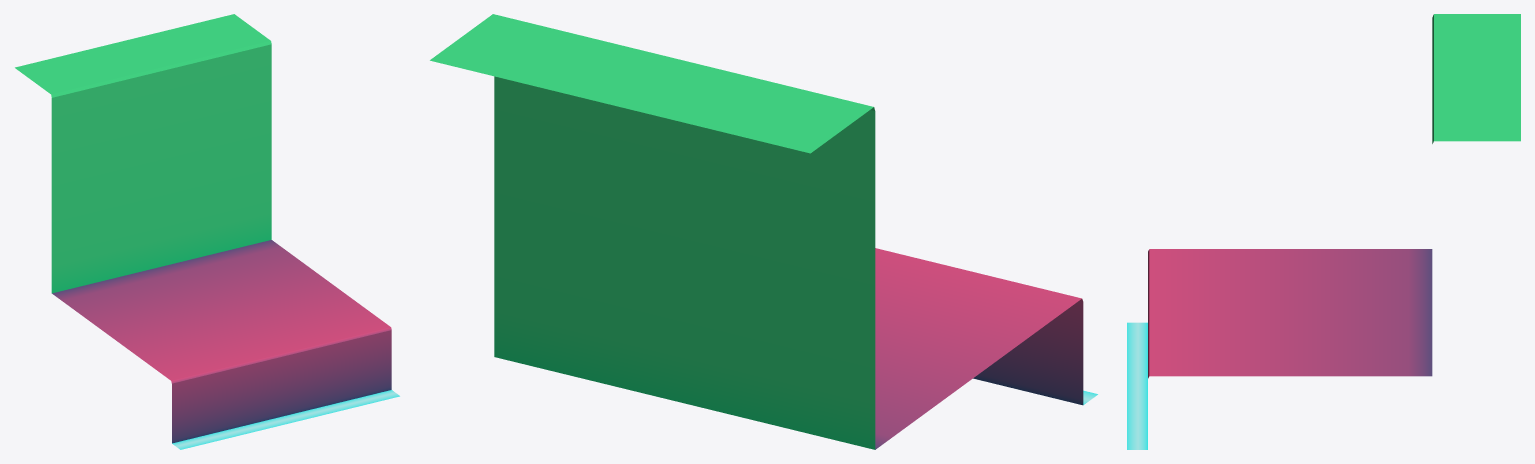
The model's file is BackEdge.fbx.
3 views of the same model, side by side, from view 1: azimuth 30°, elevation 25°; view 2: azimuth 150°, elevation 25°; view 3: azimuth 270°, elevation 25° (orthographic). The views are drawn at different scales.
Visible parts, largest first — view 1: BackEdge; view 2: BackEdge; view 3: BackEdge.
Boxes of the visible parts, box(x1,y1,x2,y2) form: BackEdge: box(15, 14, 399, 449); BackEdge: box(430, 14, 1097, 449); BackEdge: box(1127, 14, 1520, 449).
Size of the model in its own units: 100 by 113 by 131.
